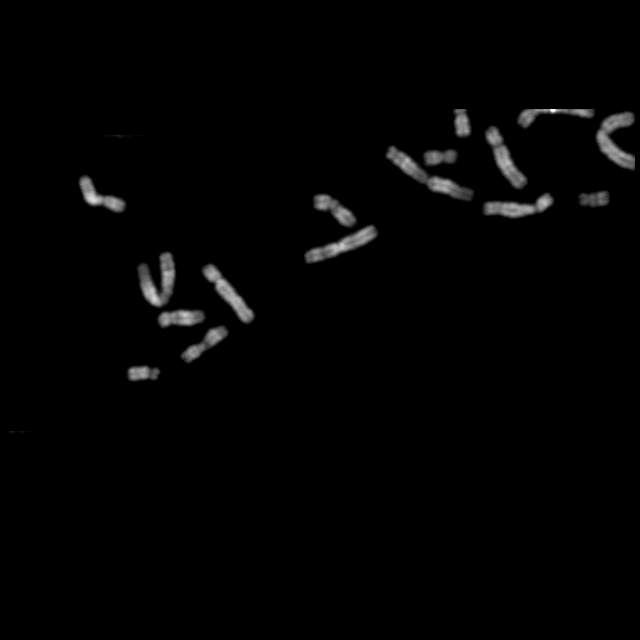chromosome: (384, 146, 472, 207), (202, 264, 253, 324), (305, 223, 377, 265), (485, 127, 525, 189), (594, 112, 636, 170), (138, 250, 174, 308), (484, 190, 554, 218), (79, 176, 126, 214), (518, 107, 594, 129), (180, 326, 225, 362), (314, 193, 354, 225), (574, 189, 612, 213), (156, 310, 202, 328), (422, 146, 458, 168), (129, 364, 161, 384), (452, 108, 472, 138)
